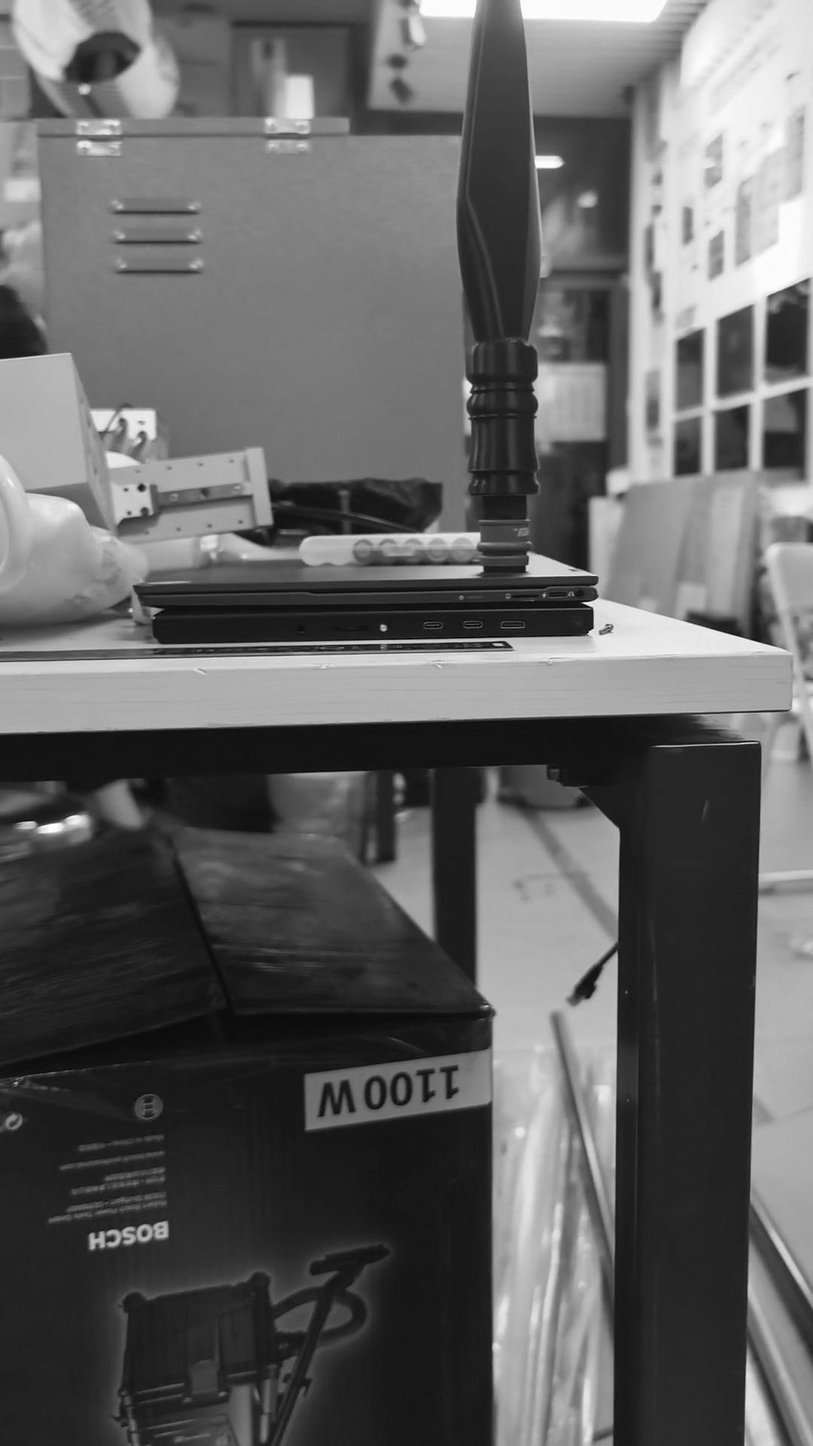base: (472, 510, 539, 587)
